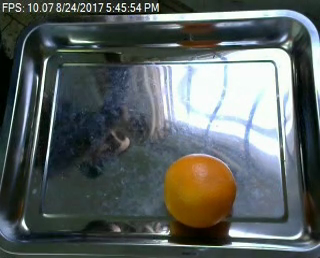Orange: (164, 152, 237, 227)
